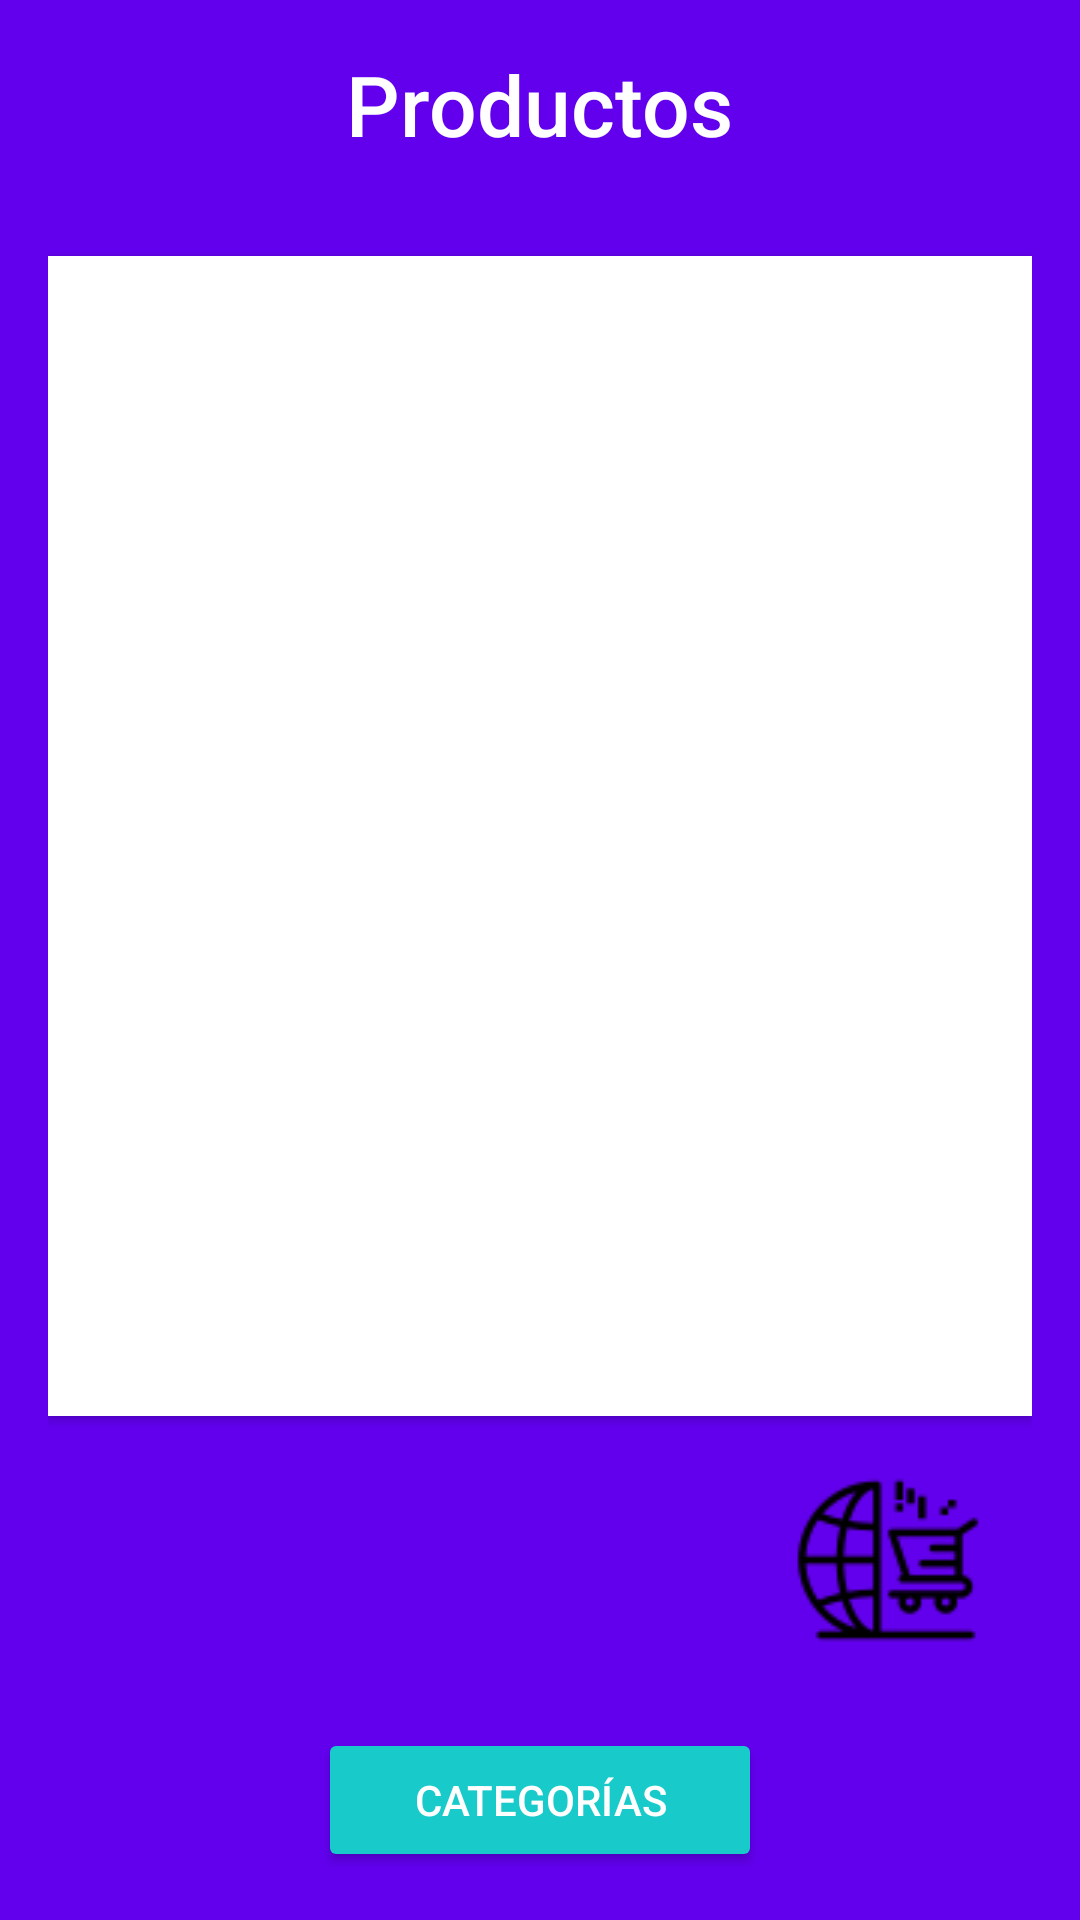

Locate icon controls on the screen. Image size 1080px×1920px, boxes as rect(x1, y1, x2, y2).
carrito go: rect(797, 1479, 979, 1641)
